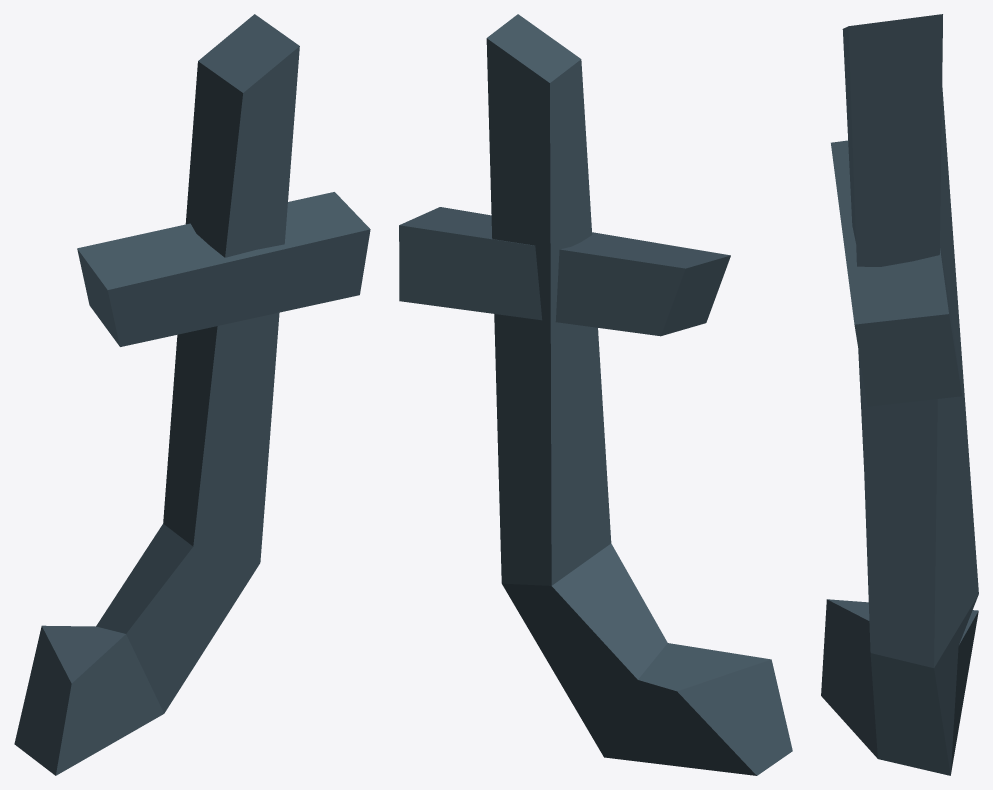
File: lowercase-n.glb
The picture shows the model from 3 angles, left to right: view 1: azimuth 30°, elevation 25°; view 2: azimuth 150°, elevation 25°; view 3: azimuth 270°, elevation 25°; orthographic projection. The views are drawn at different scales.
Bounding box in the file's own units: 0.2185 × 0.417 × 0.0716.
